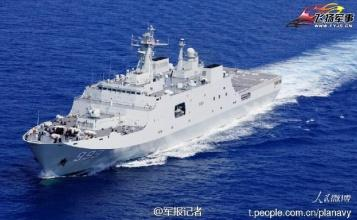warship: (21, 25, 285, 177)
